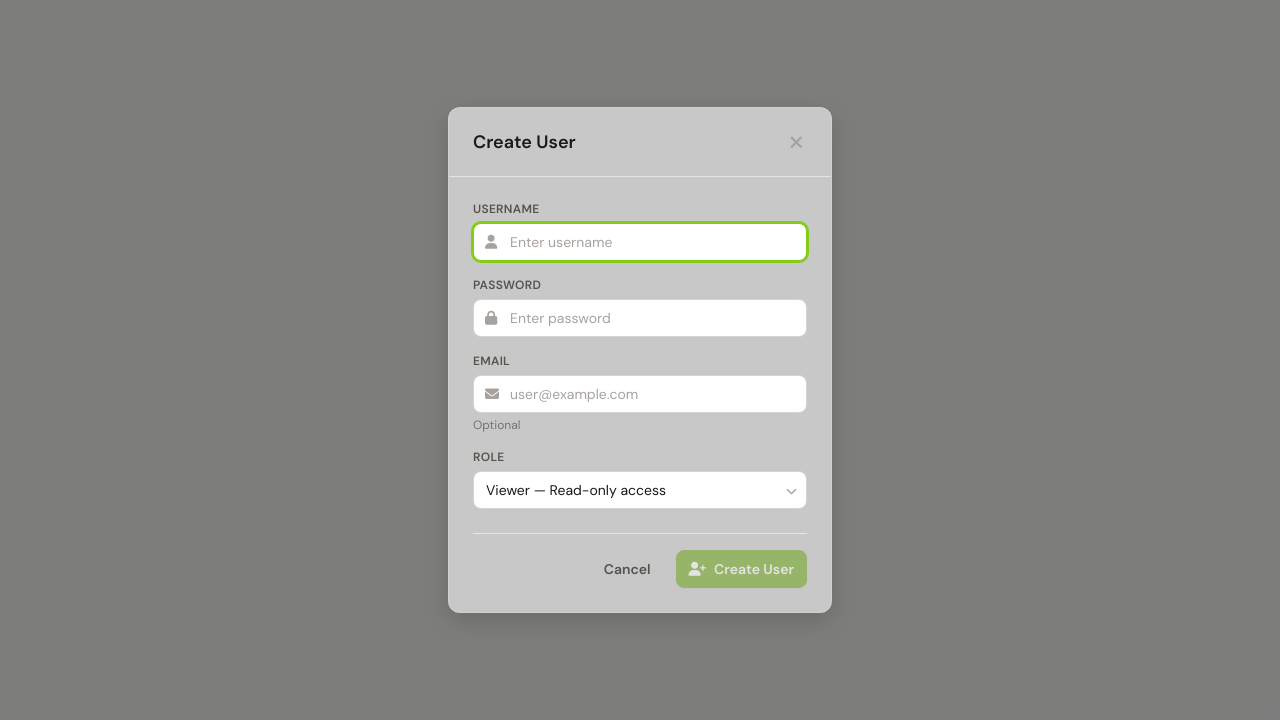
UserCreateModal › falls back to a generic message when the rejection is not an Error
Type "alice" into the field with placeholder "Enter username" at point(640, 242), box [473,223,807,261]
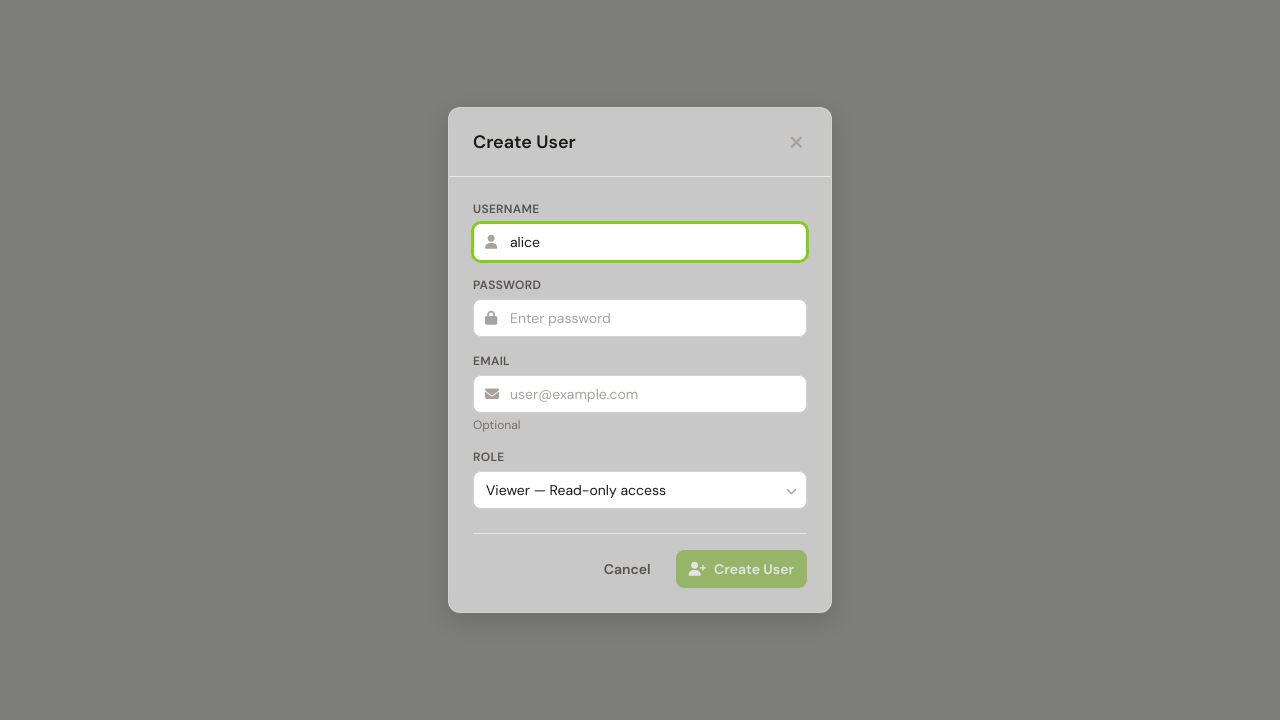
Type "pw1234" into the password field with placeholder "Enter password" at point(640, 318), box [473,299,807,337]
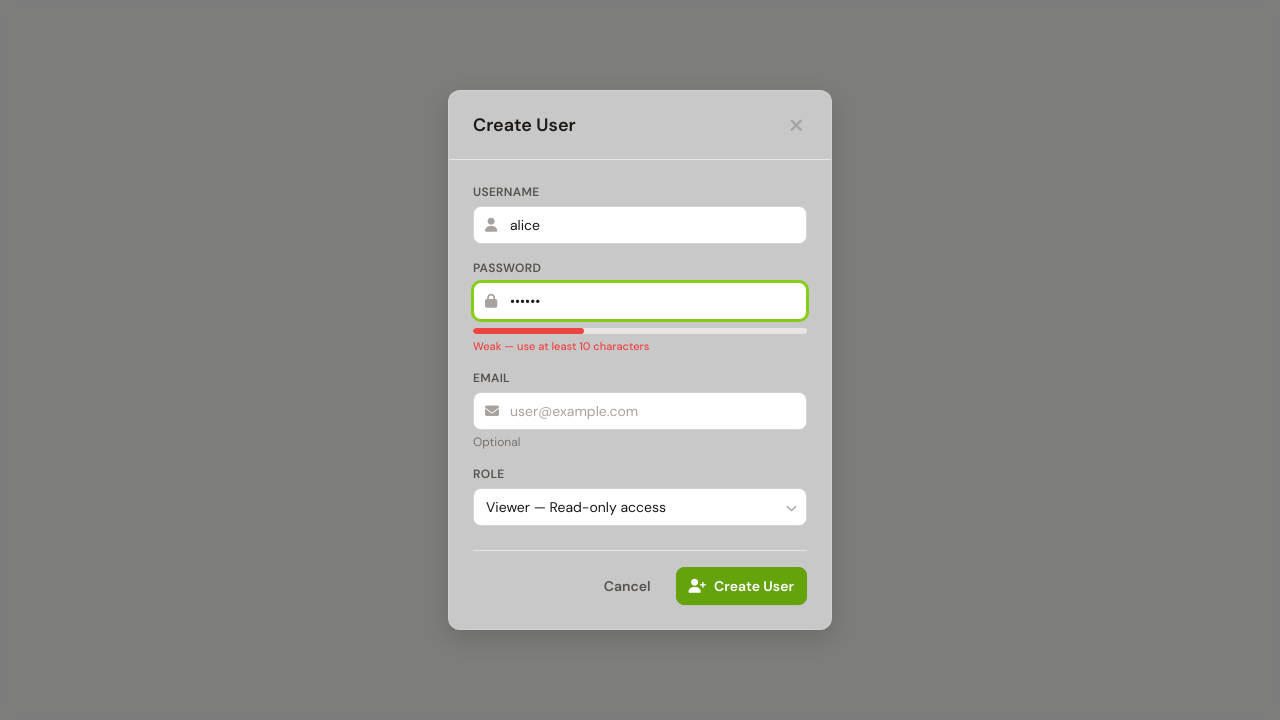
Click the button "Create User" at point(741, 586), box [676,567,807,605]
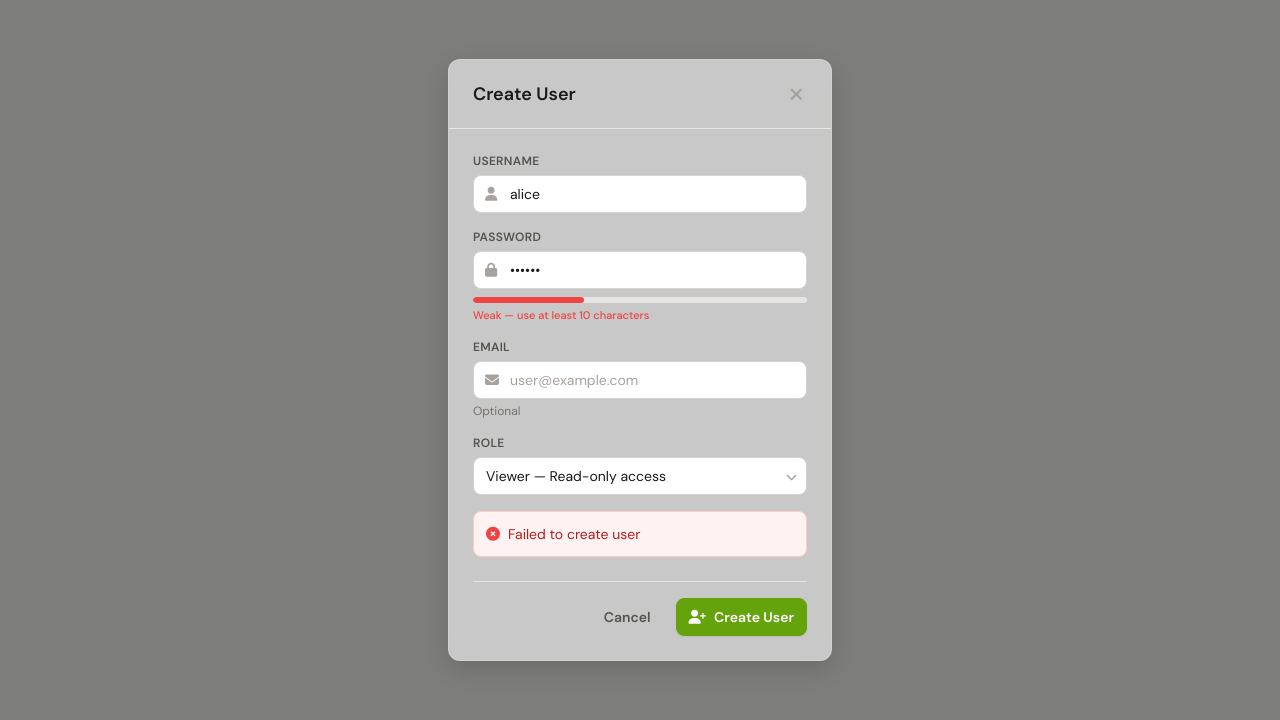
Expected: the text "Failed to create user" is shown, [473,511,807,557]
